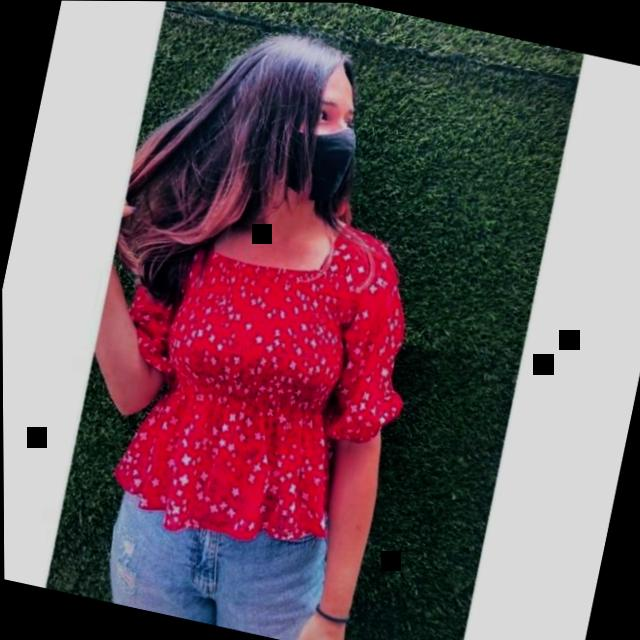Mask: (288, 74, 369, 208)
